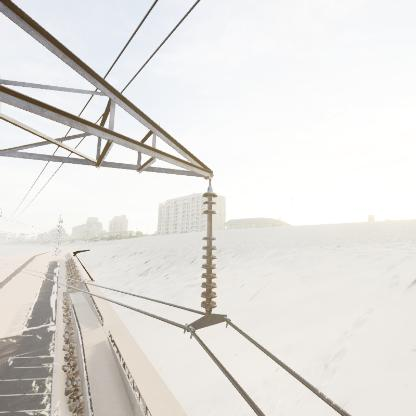insulator: (196, 186, 223, 317)
